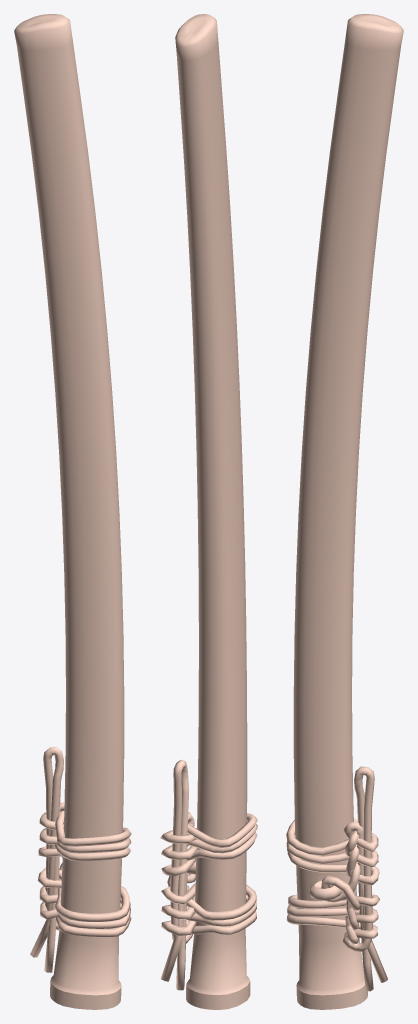
Rendered from katanaCover.fbx.
The picture shows the model from 3 angles, left to right: view 1: azimuth 90°, elevation 25°; view 2: azimuth 150°, elevation 25°; view 3: azimuth 270°, elevation 25°; orthographic projection.
Visible parts, largest first — view 1: scabbard_low, sageo_wrap_low; view 2: scabbard_low, sageo_wrap_low; view 3: scabbard_low, sageo_wrap_low.
Boxes of the visible parts, box(x1,y1,x2,y2) form: scabbard_low: box(14, 14, 124, 1009); sageo_wrap_low: box(30, 747, 131, 972); scabbard_low: box(175, 14, 250, 1009); sageo_wrap_low: box(160, 759, 257, 990); scabbard_low: box(293, 14, 403, 1009); sageo_wrap_low: box(286, 766, 387, 991).
Size of the model in its own units: 5.55 by 74.72 by 8.12.
